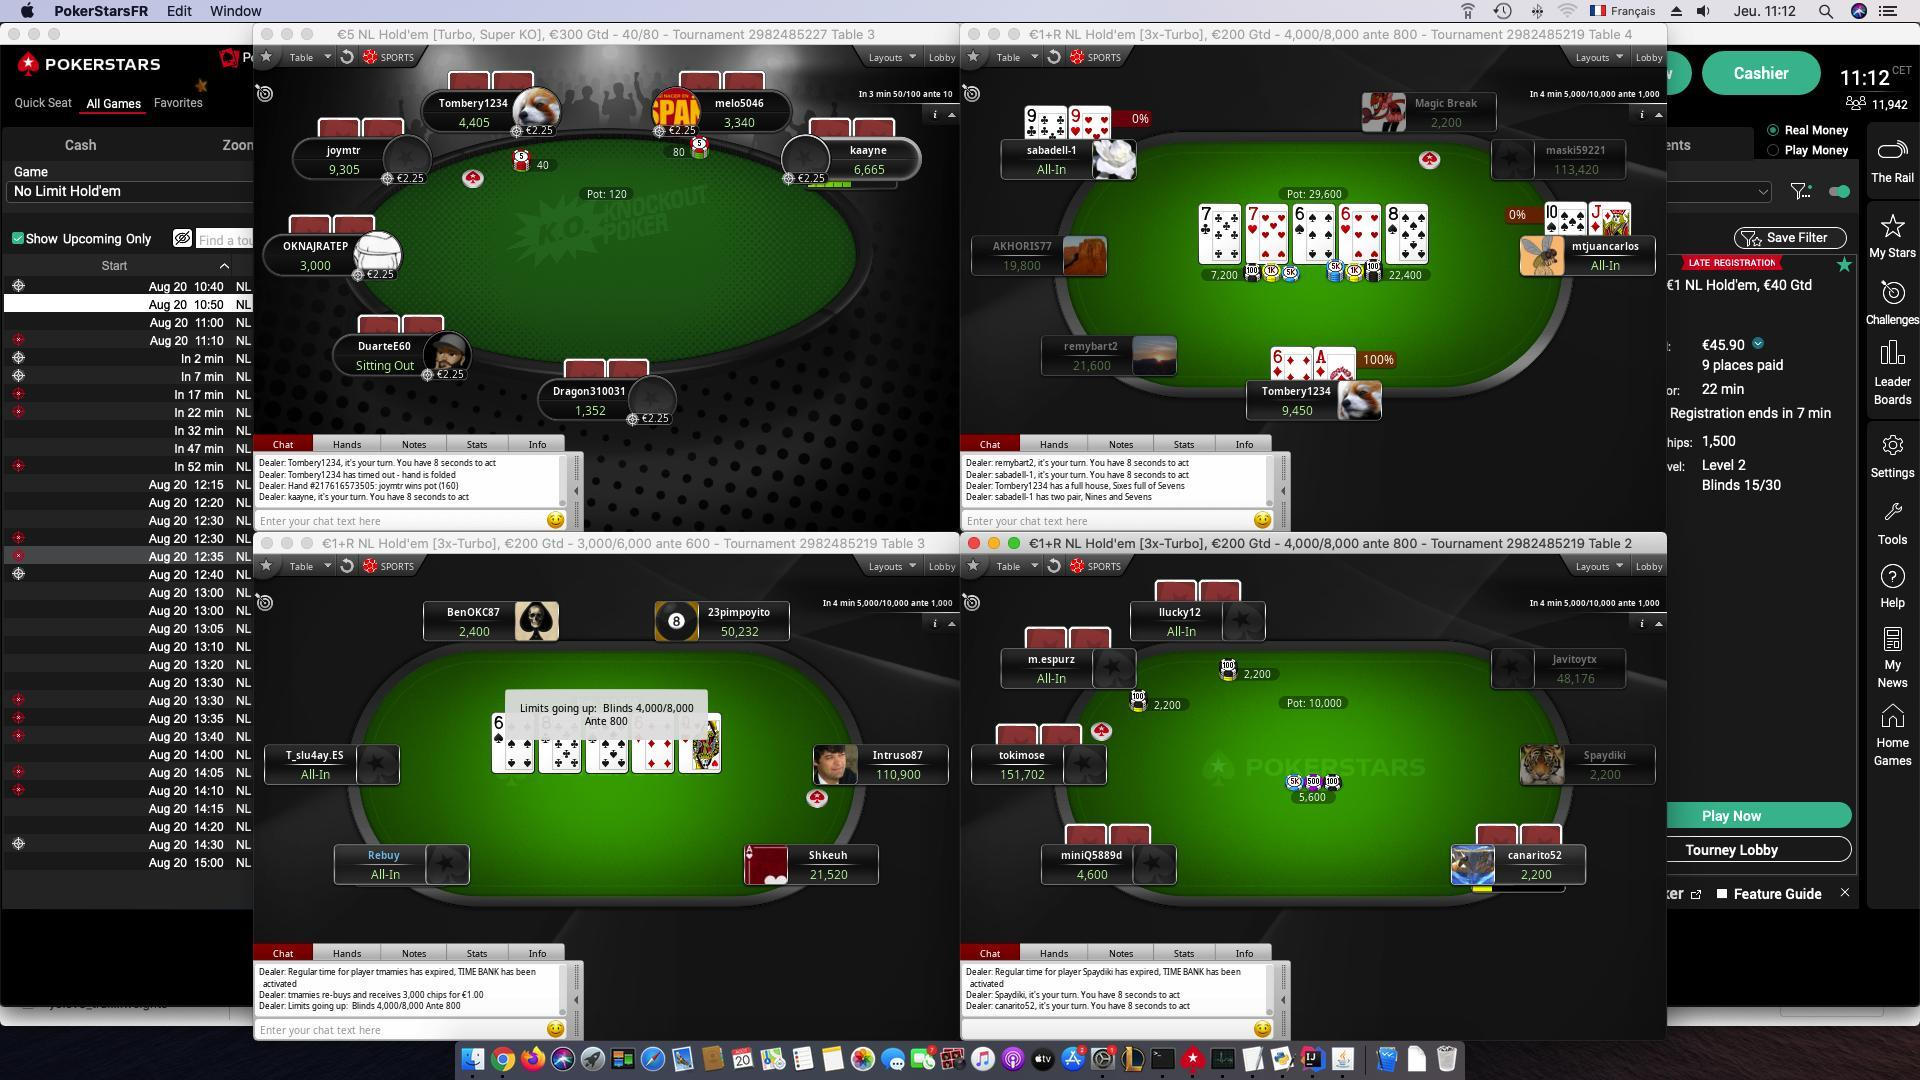10S: (1544, 202, 1564, 233)
6D: (1266, 344, 1290, 380)
6H: (1338, 202, 1356, 239)
6S: (1294, 203, 1311, 237), (491, 715, 506, 748)
7C: (1193, 198, 1215, 237)
7H: (1247, 203, 1261, 236)
8S: (1385, 206, 1400, 240)
9C: (1023, 103, 1043, 138)
9H: (1062, 102, 1085, 136)
AD: (1313, 345, 1331, 377)
JD: (1586, 200, 1604, 233)
